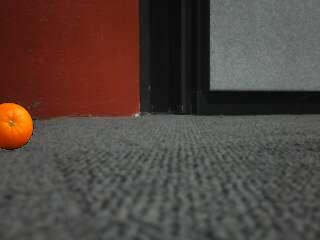Orange: (0, 102, 32, 149)
